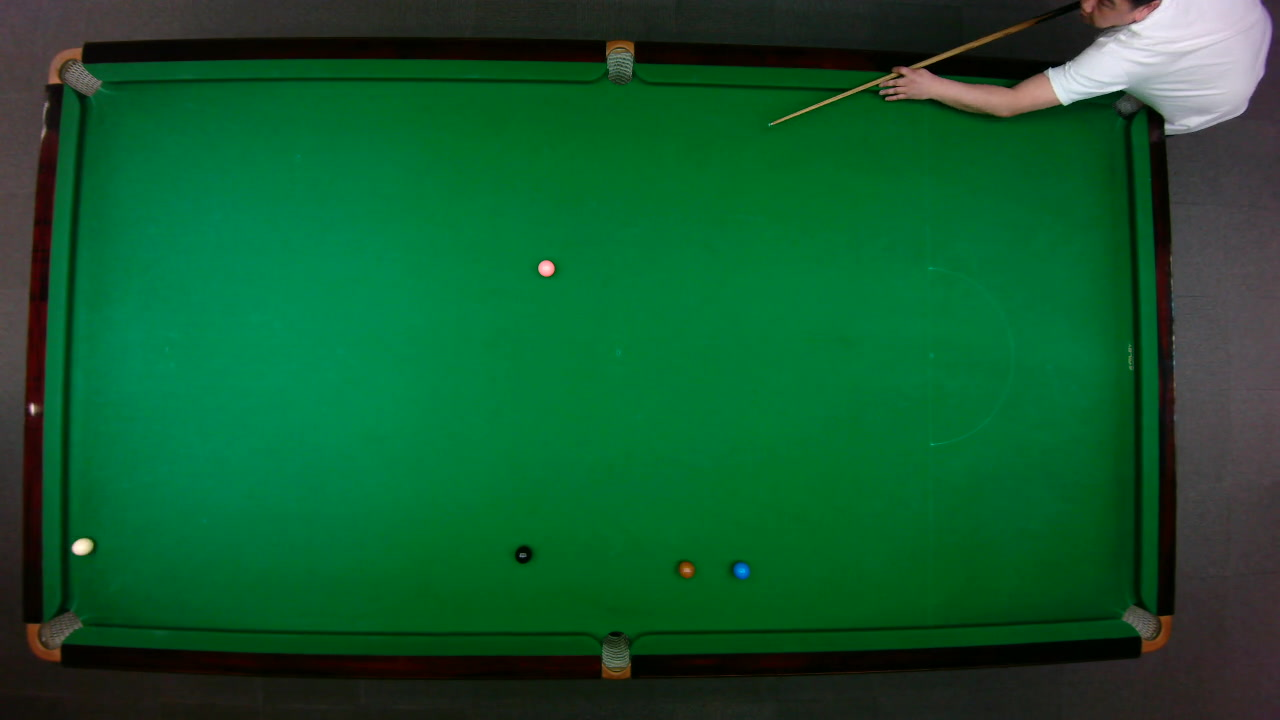bag: (25, 609, 84, 662), (46, 46, 102, 96), (1119, 603, 1172, 652), (1112, 75, 1167, 120), (600, 629, 630, 680), (605, 38, 633, 85)
black: (513, 544, 533, 564)
blue: (732, 561, 750, 579)
brown: (676, 560, 695, 578)
cue: (766, 1, 1084, 130)
pink: (536, 258, 555, 277)
white: (70, 536, 94, 555)
zone: (927, 265, 1013, 446)
